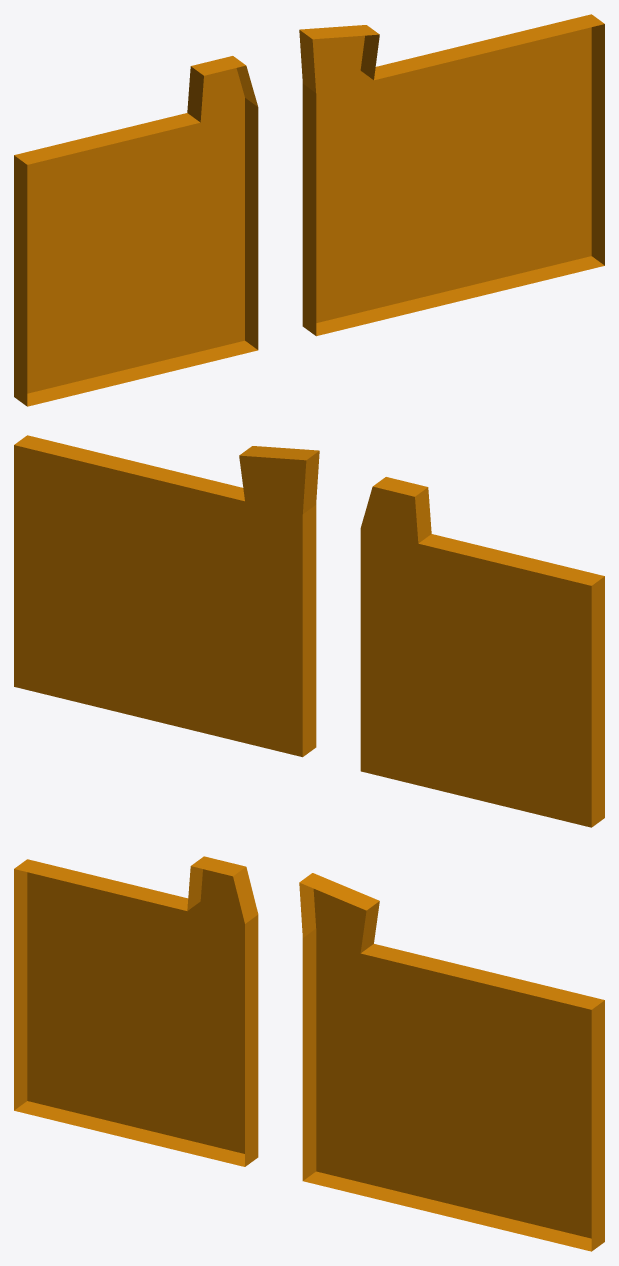
Rendered from 3 low res valley.fbx.
The picture shows the model from 3 angles, top to bottom: view 1: azimuth 30°, elevation 25°; view 2: azimuth 150°, elevation 25°; view 3: azimuth 330°, elevation 25°; orthographic projection.
Parts seen in each view (by area): view 1: candycane_Valley_terrain; view 2: candycane_Valley_terrain; view 3: candycane_Valley_terrain.
Part boxes in pixels (<box>): candycane_Valley_terrain: <box>14,14,604,406</box>; candycane_Valley_terrain: <box>14,435,604,827</box>; candycane_Valley_terrain: <box>14,856,604,1251</box>.
Bounding box in the file's own units: 25 × 12.32 × 1.
